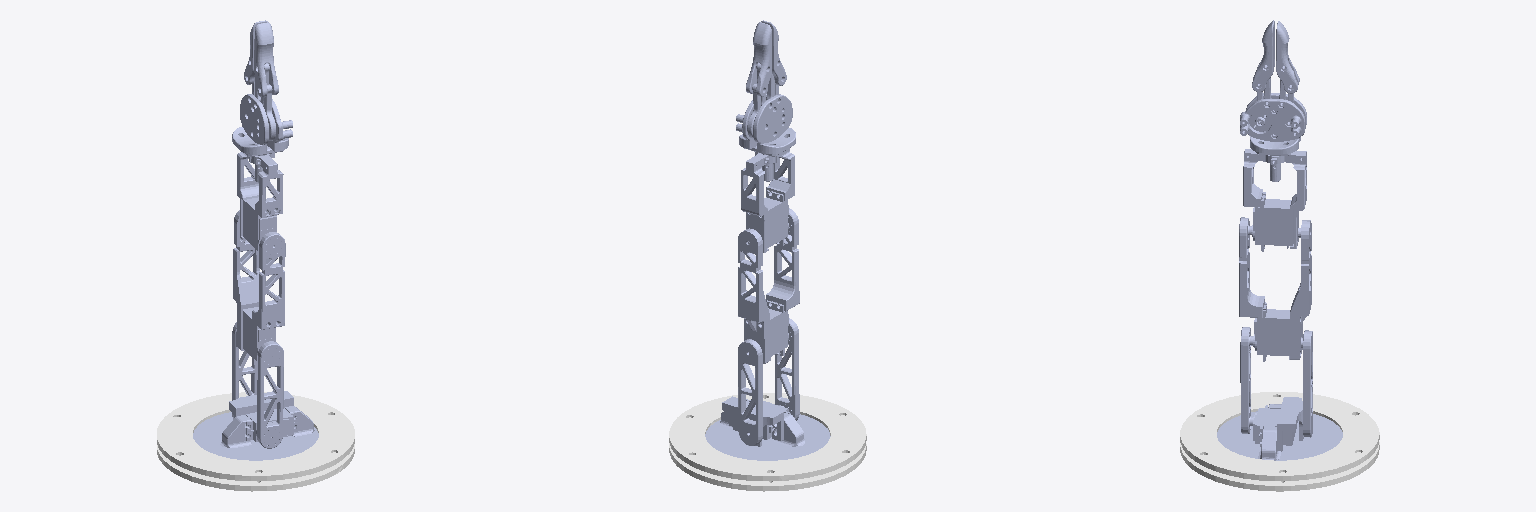
URDF robot description (arm_robot_urdf):
<?xml version="1.0" encoding="utf-8"?>
<!-- This URDF was automatically created by SolidWorks to URDF Exporter! Originally created by [author] ([email redacted]) 
     Commit Version: 1.6.0-4-g7f85cfe  Build Version: 1.6.7995.38578
     For more information, please see http://wiki.ros.org/sw_urdf_exporter -->
<robot
  name="arm_robot_urdf">
  <link name="world"/>
  <link
    name="base_link">
    <inertial>
      <origin
        xyz="-1.128E-12 -3.233E-13 0.0077451"
        rpy="0 0 0" />
      <mass
        value="0.24017" />
      <inertia
        ixx="0.00073468"
        ixy="-8.5578E-22"
        ixz="-1.4295E-21"
        iyy="0.00073468"
        iyz="-1.5381E-21"
        izz="0.001468" />
    </inertial>
    <visual>
      <origin
        xyz="0 0 0"
        rpy="0 0 0" />
      <geometry>
        <mesh
          filename="package://arm_robot_urdf/meshes/base_link.STL" />
      </geometry>
      <material
        name="">
        <color
          rgba="1 1 1 1" />
      </material>
    </visual>
    <collision>
      <origin
        xyz="0 0 0"
        rpy="0 0 0" />
      <geometry>
        <mesh
          filename="package://arm_robot_urdf/meshes/base_link.STL" />
      </geometry>
    </collision>
  </link>
  <joint name="base_joint" type="fixed">
  	<parent link="world"/>
  	<child link="base_link"/>
  	<origin xyz="0.0 0.0 0.07" rpy="0 0 0" />
  </joint>
  <link
    name="link1">
    <inertial>
      <origin
        xyz="0.003677 0.029368 -0.00028766"
        rpy="0 0 0" />
      <mass
        value="0.15533" />
      <inertia
        ixx="0.00010723"
        ixy="2.0128E-06"
        ixz="8.6348E-07"
        iyy="0.00022328"
        iyz="-1.0358E-06"
        izz="0.0001271" />
    </inertial>
    <visual>
      <origin
        xyz="0 0 0"
        rpy="0 0 0" />
      <geometry>
        <mesh
          filename="package://arm_robot_urdf/meshes/link1.STL" />
      </geometry>
      <material
        name="">
        <color
          rgba="0.79216 0.81961 0.93333 1" />
      </material>
    </visual>
    <collision>
      <origin
        xyz="0 0 0"
        rpy="0 0 0" />
      <geometry>
        <mesh
          filename="package://arm_robot_urdf/meshes/link1.STL" />
      </geometry>
    </collision>
  </link>
  <joint
    name="joint1"
    type="revolute">
    <origin
      xyz="0 0 0.0468"
      rpy="-1.5708 0 -0.10442" />
    <parent
      link="base_link" />
    <child
      link="link1" />
    <axis
      xyz="0 -1 0" />
    <limit
      lower="0"
      upper="3.142"
      effort="3"
      velocity="6" />
  </joint>
  <link
    name="link2">
    <inertial>
      <origin
        xyz="0.0041007 0.043194 -0.00019892"
        rpy="0 0 0" />
      <mass
        value="0.028979" />
      <inertia
        ixx="3.1912E-05"
        ixy="3.2797E-09"
        ixz="3.0809E-10"
        iyy="1.9158E-06"
        iyz="1.3101E-07"
        izz="3.0272E-05" />
    </inertial>
    <visual>
      <origin
        xyz="0 0 0"
        rpy="0 0 0" />
      <geometry>
        <mesh
          filename="package://arm_robot_urdf/meshes/link2.STL" />
      </geometry>
      <material
        name="">
        <color
          rgba="0.79216 0.81961 0.93333 1" />
      </material>
    </visual>
    <collision>
      <origin
        xyz="0 0 0"
        rpy="0 0 0" />
      <geometry>
        <mesh
          filename="package://arm_robot_urdf/meshes/link2.STL" />
      </geometry>
    </collision>
  </link>
  <joint
    name="joint2"
    type="revolute">
    <origin
      xyz="0.00043961 0.0181 0"
      rpy="3.137 1.5708 0" />
    <parent
      link="link1" />
    <child
      link="link2" />
    <axis
      xyz="-1 0 0" />
    <limit
      lower="-1.57"
      upper="1.57"
      effort="3"
      velocity="6" />
  </joint>
  <link
    name="link3">
    <inertial>
      <origin
        xyz="0.038871 -1.5809E-05 -0.0022726"
        rpy="0 0 0" />
      <mass
        value="0.077534" />
      <inertia
        ixx="8.8194E-06"
        ixy="6.3213E-08"
        ixz="-1.5665E-06"
        iyy="6.4964E-05"
        iyz="-4.958E-10"
        izz="6.3402E-05" />
    </inertial>
    <visual>
      <origin
        xyz="0 0 0"
        rpy="0 0 0" />
      <geometry>
        <mesh
          filename="package://arm_robot_urdf/meshes/link3.STL" />
      </geometry>
      <material
        name="">
        <color
          rgba="0.79216 0.81961 0.93333 1" />
      </material>
    </visual>
    <collision>
      <origin
        xyz="0 0 0"
        rpy="0 0 0" />
      <geometry>
        <mesh
          filename="package://arm_robot_urdf/meshes/link3.STL" />
      </geometry>
    </collision>
  </link>
  <joint
    name="joint3"
    type="revolute">
    <origin
      xyz="0 0.086389 -0.00039698"
      rpy="-1.5708 0.0045952 1.5708" />
    <parent
      link="link2" />
    <child
      link="link3" />
    <axis
      xyz="0 0 1" />
    <limit
      lower="-1.57"
      upper="1.57"
      effort="3"
      velocity="6" />
  </joint>
  <link
    name="link4">
    <inertial>
      <origin
        xyz="0.02728 -1.3306E-05 -0.0036998"
        rpy="0 0 0" />
      <mass
        value="0.056033" />
      <inertia
        ixx="1.8571E-05"
        ixy="4.7541E-08"
        ixz="3.1144E-06"
        iyy="3.6056E-05"
        iyz="-1.7358E-09"
        izz="2.1544E-05" />
    </inertial>
    <visual>
      <origin
        xyz="0 0 0"
        rpy="0 0 0" />
      <geometry>
        <mesh
          filename="package://arm_robot_urdf/meshes/link4.STL" />
      </geometry>
      <material
        name="">
        <color
          rgba="0.79216 0.81961 0.93333 1" />
      </material>
    </visual>
    <collision>
      <origin
        xyz="0 0 0"
        rpy="0 0 0" />
      <geometry>
        <mesh
          filename="package://arm_robot_urdf/meshes/link4.STL" />
      </geometry>
    </collision>
  </link>
  <joint
    name="joint4"
    type="revolute">
    <origin
      xyz="0.1181 0 0"
      rpy="0 0 0" />
    <parent
      link="link3" />
    <child
      link="link4" />
    <axis
      xyz="0 0 1" />
    <limit
      lower="-1.57"
      upper="1.57"
      effort="3"
      velocity="6" />
  </joint>
  <link
    name="link5">
    <inertial>
      <origin
        xyz="-0.00033241 0.012927 -0.0044067"
        rpy="0 0 0" />
      <mass
        value="0.040264" />
      <inertia
        ixx="8.8714E-06"
        ixy="8.1547E-08"
        ixz="8.026E-08"
        iyy="1.0538E-05"
        iyz="7.6427E-08"
        izz="1.617E-05" />
    </inertial>
    <visual>
      <origin
        xyz="0 0 0"
        rpy="0 0 0" />
      <geometry>
        <mesh
          filename="package://arm_robot_urdf/meshes/link5.STL" />
      </geometry>
      <material
        name="">
        <color
          rgba="0.79216 0.81961 0.93333 1" />
      </material>
    </visual>
    <collision>
      <origin
        xyz="0 0 0"
        rpy="0 0 0" />
      <geometry>
        <mesh
          filename="package://arm_robot_urdf/meshes/link5.STL" />
      </geometry>
    </collision>
  </link>
  <joint
    name="joint5"
    type="fixed">
    <origin
      xyz="0.095613 -0.0040353 -0.0040761"
      rpy="1.5708 1.5708 0" />
    <parent
      link="link4" />
    <child
      link="link5" />
    <axis
      xyz="0 0 0" />
  </joint>
  <link
    name="link6">
    <inertial>
      <origin
        xyz="0.027062 -0.0036577 0.039267"
        rpy="0 0 0" />
      <mass
        value="0.01684" />
      <inertia
        ixx="4.0582E-06"
        ixy="-6.236E-08"
        ixz="-2.0468E-06"
        iyy="5.368E-06"
        iyz="-1.0351E-07"
        izz="1.977E-06" />
    </inertial>
    <visual>
      <origin
        xyz="0 0 0"
        rpy="0 0 0" />
      <geometry>
        <mesh
          filename="package://arm_robot_urdf/meshes/link6.STL" />
      </geometry>
      <material
        name="">
        <color
          rgba="0.79216 0.81961 0.93333 1" />
      </material>
    </visual>
    <collision>
      <origin
        xyz="0 0 0"
        rpy="0 0 0" />
      <geometry>
        <mesh
          filename="package://arm_robot_urdf/meshes/link6.STL" />
      </geometry>
    </collision>
  </link>
  <joint
    name="joint6"
    type="revolute">
    <origin
      xyz="-0.014 0.02432 0"
      rpy="1.6012 0 2.4658" />
    <parent
      link="link5" />
    <child
      link="link6" />
    <axis
      xyz="0 1 0" />
    <limit
      lower="0"
      upper="1.57"
      effort="1"
      velocity="6" />
  </joint>
  <link
    name="link7">
    <inertial>
      <origin
        xyz="0.0071253 0.036593 -0.005022"
        rpy="0 0 0" />
      <mass
        value="0.02237" />
      <inertia
        ixx="6.1386E-06"
        ixy="-8.2979E-07"
        ixz="-7.643E-11"
        iyy="1.0994E-06"
        iyz="-5.1831E-10"
        izz="6.5465E-06" />
    </inertial>
    <visual>
      <origin
        xyz="0 0 0"
        rpy="0 0 0" />
      <geometry>
        <mesh
          filename="package://arm_robot_urdf/meshes/link7.STL" />
      </geometry>
      <material
        name="">
        <color
          rgba="0.79216 0.81961 0.93333 1" />
      </material>
    </visual>
    <collision>
      <origin
        xyz="0 0 0"
        rpy="0 0 0" />
      <geometry>
        <mesh
          filename="package://arm_robot_urdf/meshes/link7.STL" />
      </geometry>
    </collision>
  </link>
  <joint
    name="joint7"
    type="revolute">
    <origin
      xyz="0.014 0.02432 0"
      rpy="0 0 0.27301" />
    <parent
      link="link5" />
    <child
      link="link7" />
    <axis
      xyz="0 0 1" />
    <limit
      lower="-1.57"
      upper="0"
      effort="1"
      velocity="6" />
  </joint>
  
  <transmission name="base_link_trans">
    <type>transmission_interface/SimpleTransmission</type>
    <joint name="base_joint">
      <hardwareInterface>hardware_interface/PositionJointInterface</hardwareInterface>
    </joint>
    <actuator name="base_link_motor">
      <hardwareInterface>hardware_interface/PositionJointInterface</hardwareInterface>
      <mechanicalReduction>1</mechanicalReduction>
    </actuator>
  </transmission>
  <transmission name="link1_trans">
    <type>transmission_interface/SimpleTransmission</type>
    <joint name="joint1">
      <hardwareInterface>hardware_interface/PositionJointInterface</hardwareInterface>
    </joint>
    <actuator name="link1_motor">
      <hardwareInterface>hardware_interface/PositionJointInterface</hardwareInterface>
      <mechanicalReduction>1</mechanicalReduction>
    </actuator>
  </transmission>
  <transmission name="link2_trans">
    <type>transmission_interface/SimpleTransmission</type>
    <joint name="joint2">
      <hardwareInterface>hardware_interface/PositionJointInterface</hardwareInterface>
    </joint>
    <actuator name="link2_motor">
      <hardwareInterface>hardware_interface/PositionJointInterface</hardwareInterface>
      <mechanicalReduction>1</mechanicalReduction>
    </actuator>
  </transmission>
  <transmission name="link3_trans">
    <type>transmission_interface/SimpleTransmission</type>
    <joint name="joint3">
      <hardwareInterface>hardware_interface/PositionJointInterface</hardwareInterface>
    </joint>
    <actuator name="link3_motor">
      <hardwareInterface>hardware_interface/PositionJointInterface</hardwareInterface>
      <mechanicalReduction>1</mechanicalReduction>
    </actuator>
  </transmission>
  <transmission name="link4_trans">
    <type>transmission_interface/SimpleTransmission</type>
    <joint name="joint4">
      <hardwareInterface>hardware_interface/PositionJointInterface</hardwareInterface>
    </joint>
    <actuator name="link4_motor">
      <hardwareInterface>hardware_interface/PositionJointInterface</hardwareInterface>
      <mechanicalReduction>1</mechanicalReduction>
    </actuator>
  </transmission>
  <transmission name="link6_trans">
    <type>transmission_interface/SimpleTransmission</type>
    <joint name="joint6">
      <hardwareInterface>hardware_interface/PositionJointInterface</hardwareInterface>
    </joint>
    <actuator name="link6_motor">
      <hardwareInterface>hardware_interface/PositionJointInterface</hardwareInterface>
      <mechanicalReduction>1</mechanicalReduction>
    </actuator>
  </transmission>
  <transmission name="link7_trans">
    <type>transmission_interface/SimpleTransmission</type>
    <joint name="joint7">
      <hardwareInterface>hardware_interface/PositionJointInterface</hardwareInterface>
    </joint>
    <actuator name="link7_motor">
      <hardwareInterface>hardware_interface/PositionJointInterface</hardwareInterface>
      <mechanicalReduction>1</mechanicalReduction>
    </actuator>
  </transmission>
  
  <gazebo>
    <plugin name="control" filename="libgazebo_ros_control.so">
      <robotNamespace>/</robotNamespace>
    </plugin>
  </gazebo>
  <gazebo reference="link1">
    <selfCollide>true</selfCollide>
  </gazebo>
  <gazebo reference="link2">
    <selfCollide>true</selfCollide>
  </gazebo>
  <gazebo reference="link3">
    <selfCollide>true</selfCollide>
  </gazebo>
  <gazebo reference="link4">
    <selfCollide>true</selfCollide>
  </gazebo>
  <gazebo reference="link6">
    <selfCollide>true</selfCollide>
  </gazebo>
  <gazebo reference="link7">
    <selfCollide>true</selfCollide>
  </gazebo>
</robot>

--- Render facts (derived) ---
The picture shows the robot from 3 angles, left to right: view 1: azimuth 30°, elevation 25°; view 2: azimuth 150°, elevation 25°; view 3: azimuth 270°, elevation 25°; orthographic projection.
Model arm_robot_urdf with 9 links and 8 joints (6 revolute, 2 fixed), rooted at world, posed every joint at zero.
Visible links, largest first — view 1: base_link, link3, link1, link2, link4, link5, link7; view 2: base_link, link3, link1, link2, link4, link5, link6, link7; view 3: base_link, link1, link3, link4, link5, link2, link7, link6.
Link boxes in pixels (x1,y1,x2,y2): base_link: (157, 392, 354, 491); link3: (233, 210, 285, 364); link1: (193, 391, 318, 460); link2: (232, 322, 283, 448); link4: (237, 152, 283, 254); link5: (232, 94, 292, 182); link7: (254, 22, 278, 140); base_link: (669, 393, 866, 491); link3: (738, 208, 799, 363); link1: (705, 396, 830, 460); link2: (738, 318, 799, 445); link4: (741, 148, 794, 252); link5: (736, 94, 795, 181); link6: (746, 22, 771, 138); link7: (761, 20, 786, 99); base_link: (1180, 392, 1379, 491); link1: (1217, 397, 1342, 460); link3: (1239, 217, 1311, 361); link4: (1243, 149, 1306, 251); link5: (1240, 93, 1306, 181); link2: (1240, 327, 1312, 437); link7: (1249, 20, 1274, 131); link6: (1276, 21, 1299, 123).
Bounding box of the posed robot: 0.1929 × 0.1927 × 0.4576 m (x, y, z).
Meshes: 8 distinct files referenced, 8 mesh visuals loaded (8 binary STL).